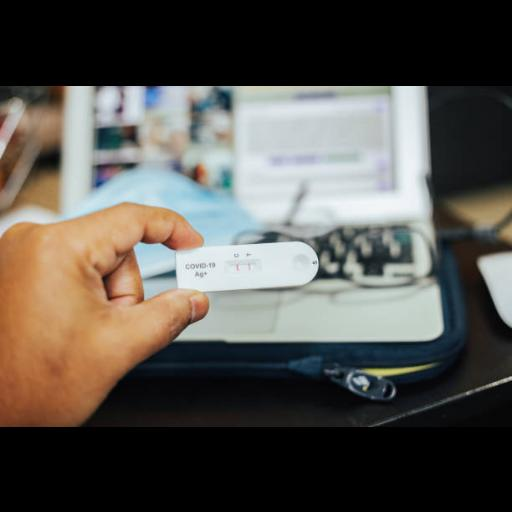Pos: (177, 241, 320, 292)
